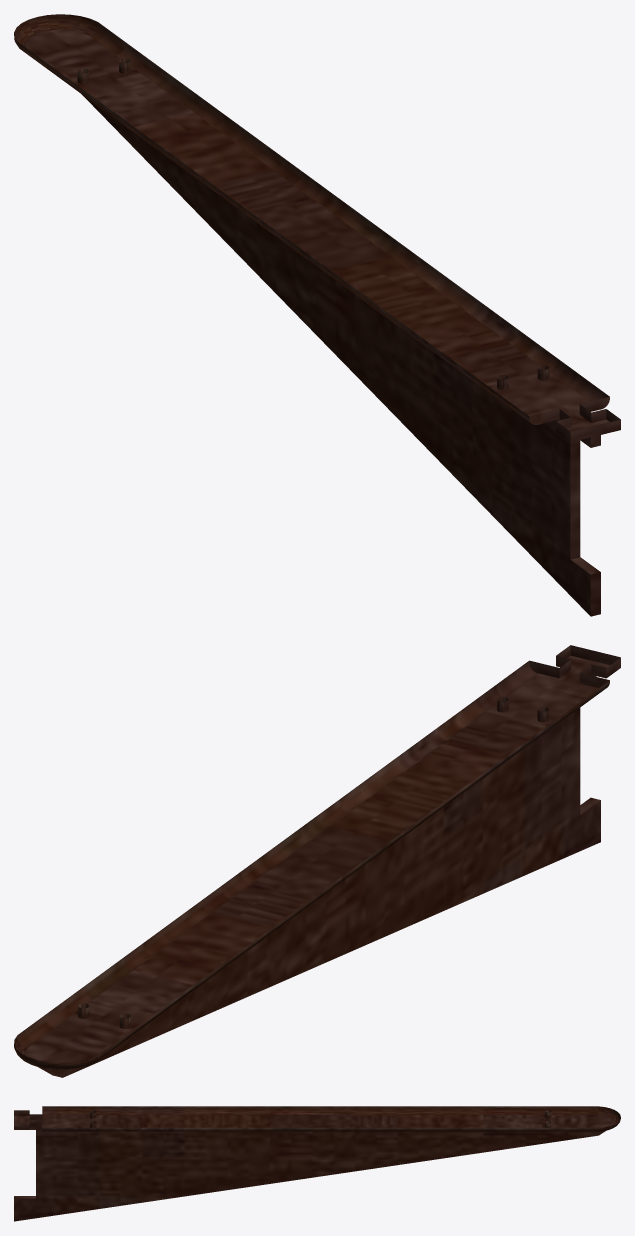
Rendered from original-28.obj.
3 views of the same model, one above another, from view 1: azimuth 30°, elevation 25°; view 2: azimuth 150°, elevation 25°; view 3: azimuth 270°, elevation 25° (orthographic). The views are drawn at different scales.
Visible parts, largest first — view 1: Group22/mesh20/mesh20-geometry#mesh20-geometry; view 2: Group22/mesh20/mesh20-geometry#mesh20-geometry; view 3: Group22/mesh20/mesh20-geometry#mesh20-geometry.
Boxes of the visible parts, x1=… form: Group22/mesh20/mesh20-geometry#mesh20-geometry: x1=14, y1=14, x2=620, y2=616; Group22/mesh20/mesh20-geometry#mesh20-geometry: x1=14, y1=645, x2=620, y2=1077; Group22/mesh20/mesh20-geometry#mesh20-geometry: x1=14, y1=1106, x2=620, y2=1221.
Bounding box in the file's own units: 0.0171 × 0.0384 × 0.2047.
